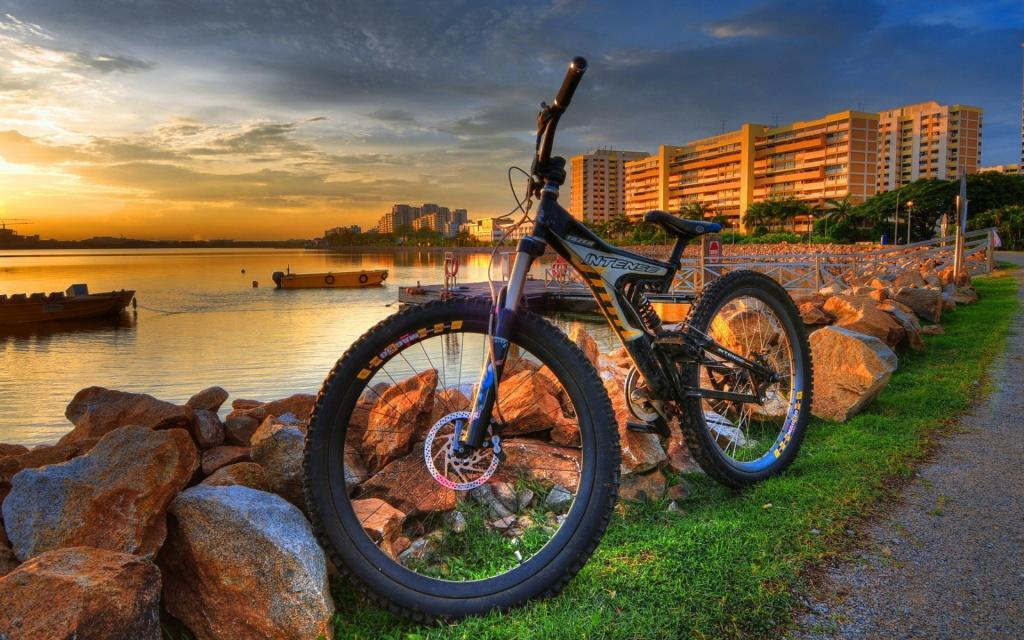单车: (296, 36, 849, 620)
